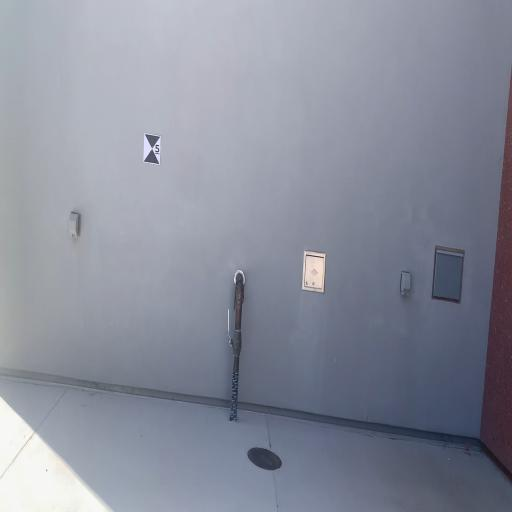target5: (143, 133, 161, 164)
